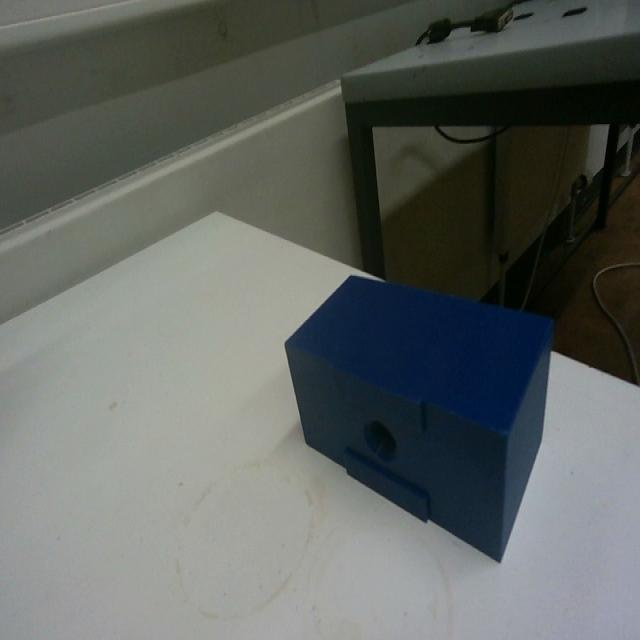Blue Cuboid: (282, 268, 556, 563)
